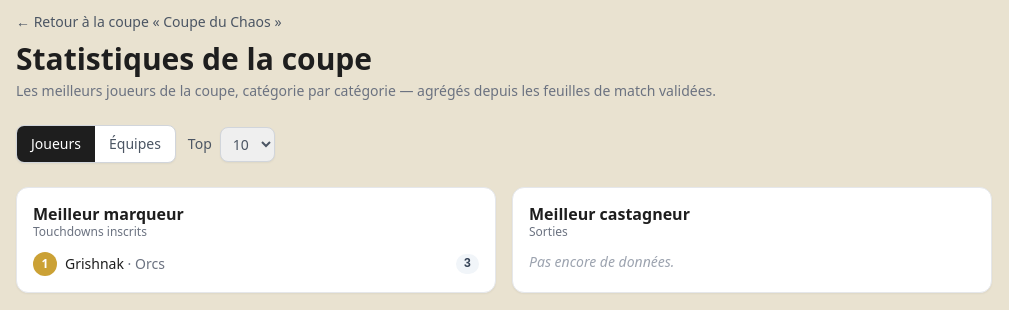
Test case: page statistiques de coupe › recharge au top N choisi et bascule sur les équipes
The width and height of the screenshot is (1009, 310).
Expected: the element with test id "cup-stats-players" is shown, [16,187,992,293]
Select "20" in the dropdown with test id "cup-stats-topn" at point(247, 144), box [220,126,275,162]
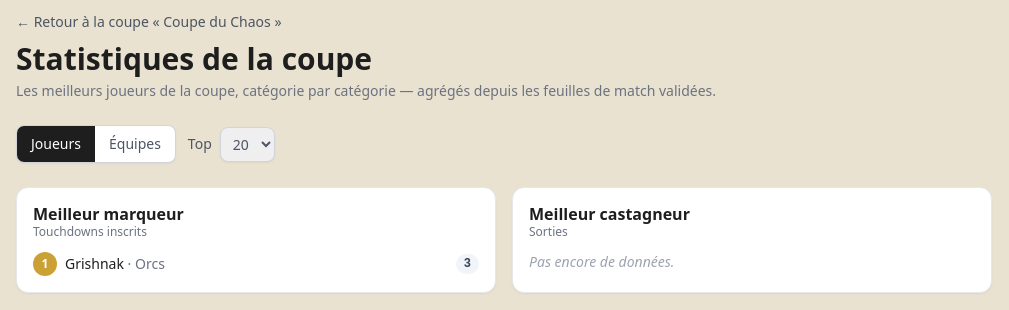
Click the button with test id "cup-stats-mode-teams".
click(135, 144)  # box [95,126,175,162]
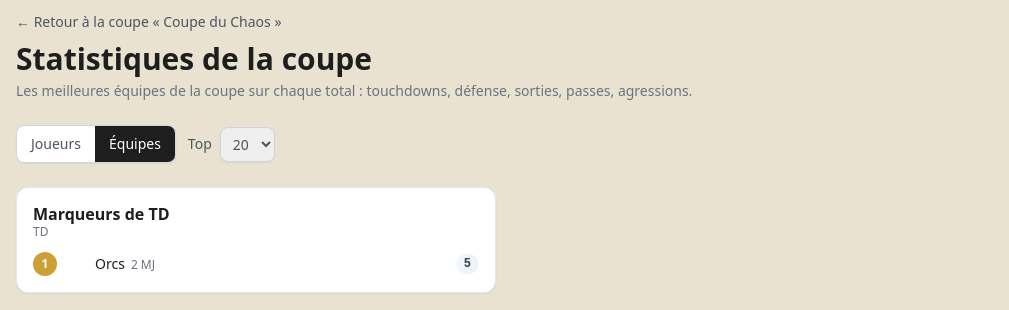
Now the element with test id "cup-stats-teams" is shown, box [16,187,496,293]
